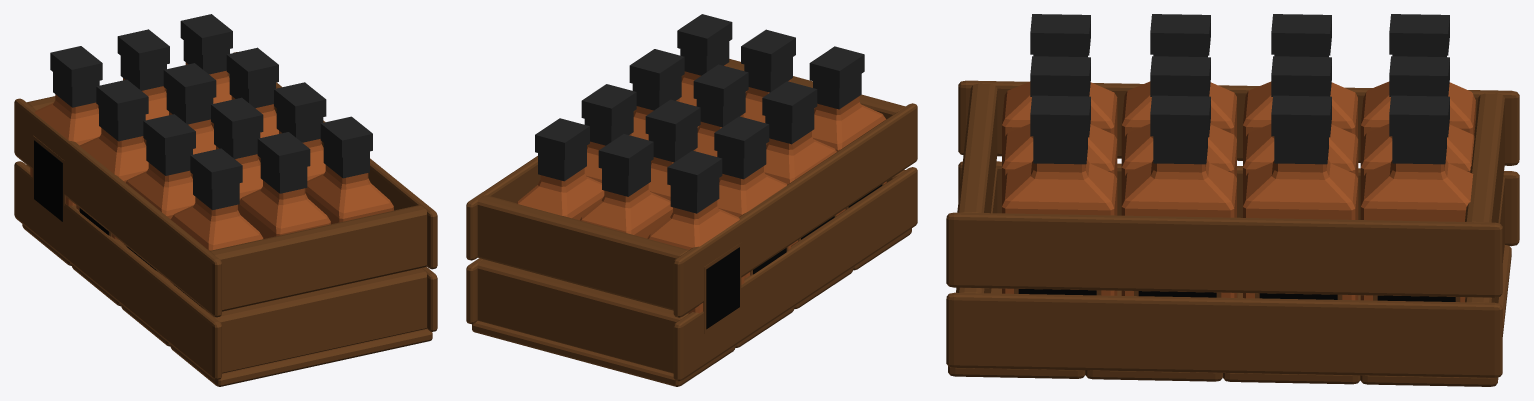
File: box with whiskey.fbx
3 renders of one model, left to right at view 1: azimuth 30°, elevation 25°; view 2: azimuth 150°, elevation 25°; view 3: azimuth 270°, elevation 25°, orthographic. The views are drawn at different scales.
Visible parts, largest first — view 1: Cube.039; view 2: Cube.039; view 3: Cube.039.
Part boxes in pixels (x1,y1,x2,y2): Cube.039: (14,14,437,386); Cube.039: (466,14,917,386); Cube.039: (946,14,1519,386).
Bounding box in the file's own units: 318 × 248 × 524.
